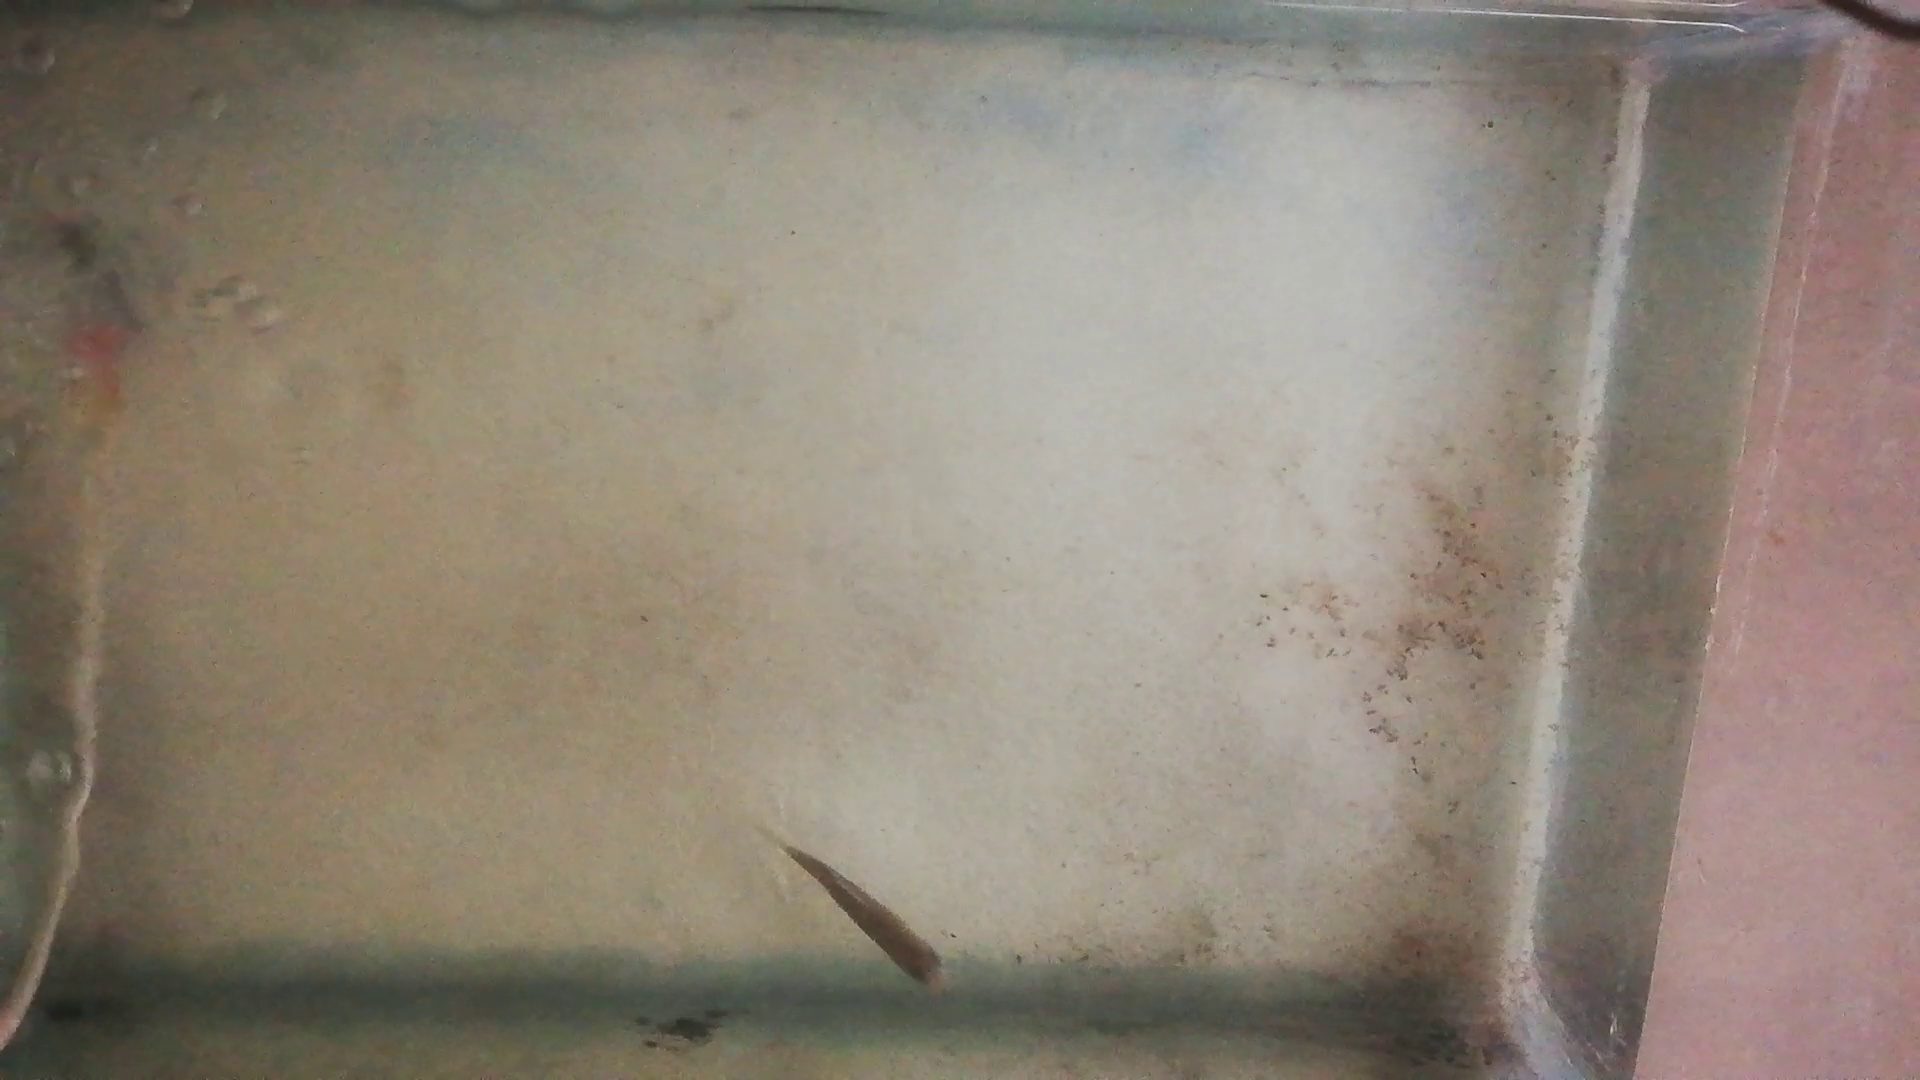fish: (779, 845, 951, 993)
